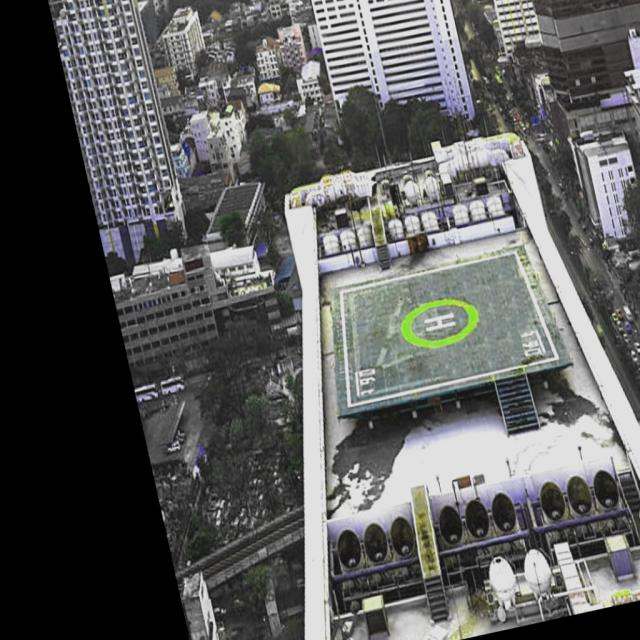helipad: (398, 296, 480, 349)
